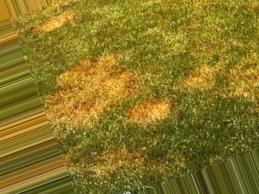patch: (55, 74, 120, 120), (129, 102, 172, 114), (182, 71, 209, 88), (42, 15, 69, 31)
